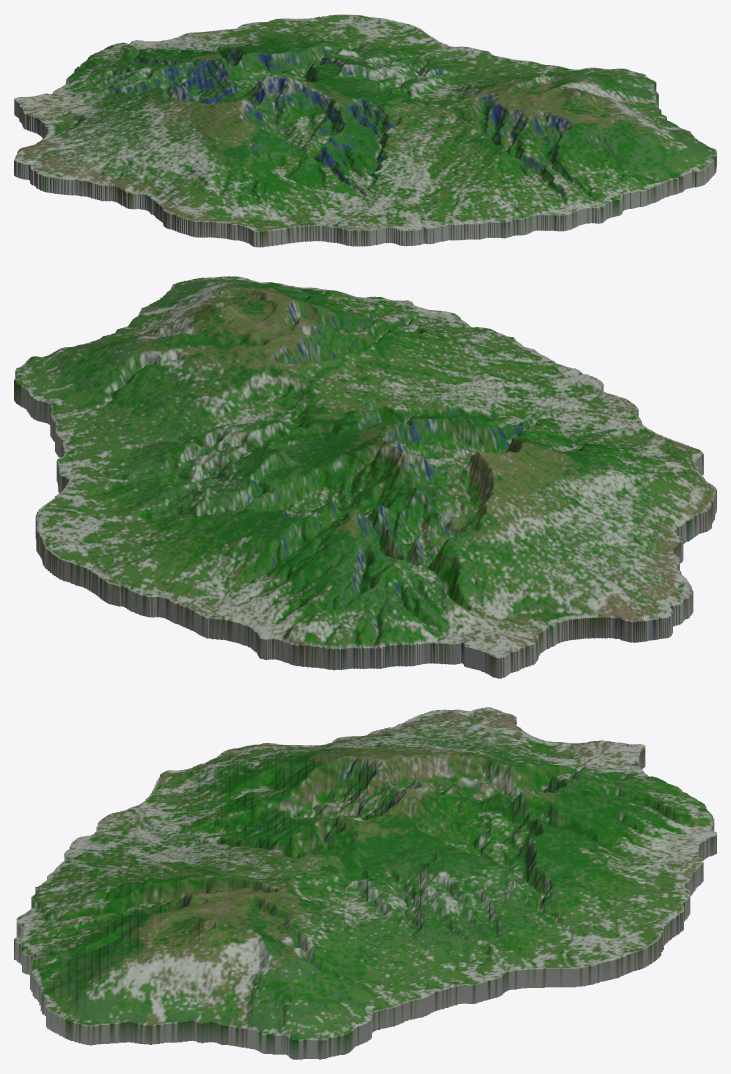
File: model_land_only_cutout.glb
3 renders of one model, top to bottom at view 1: azimuth 30°, elevation 25°; view 2: azimuth 150°, elevation 25°; view 3: azimuth 270°, elevation 25°, orthographic. The views are drawn at different scales.
Visible parts, largest first — view 1: land_only_cutout; view 2: land_only_cutout; view 3: land_only_cutout.
Boxes of the visible parts, x1=… form: land_only_cutout: x1=14, y1=14, x2=716, y2=247; land_only_cutout: x1=14, y1=276, x2=716, y2=678; land_only_cutout: x1=14, y1=707, x2=716, y2=1059.
Bounding box in the file's own units: 116 × 12.94 × 104.
